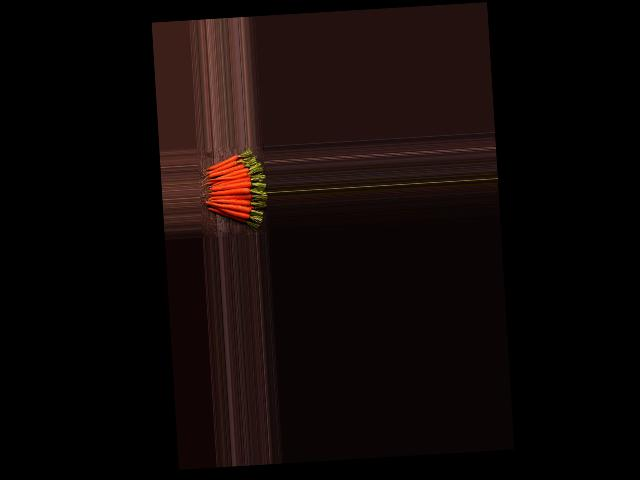carrot: (206, 154, 240, 163)
